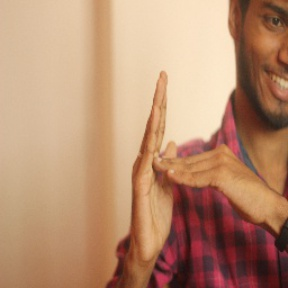Z: (117, 67, 264, 258)
